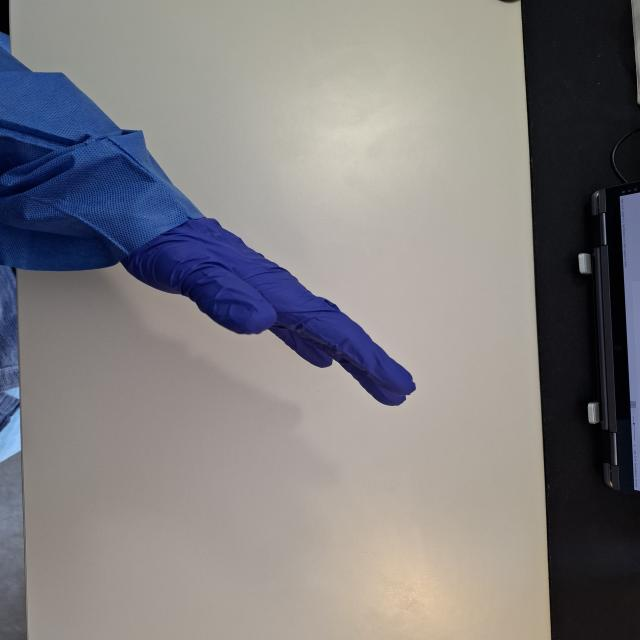glove_on: (114, 212, 418, 408)
